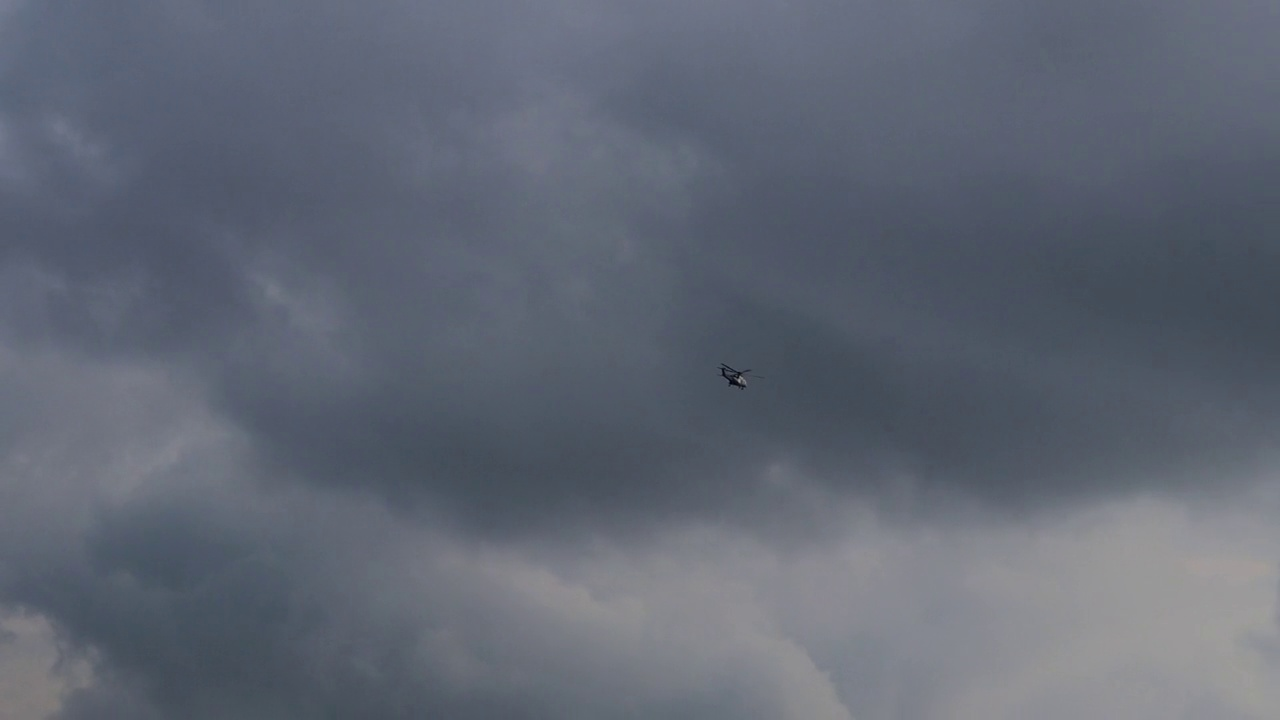heli: (719, 361, 765, 389)
